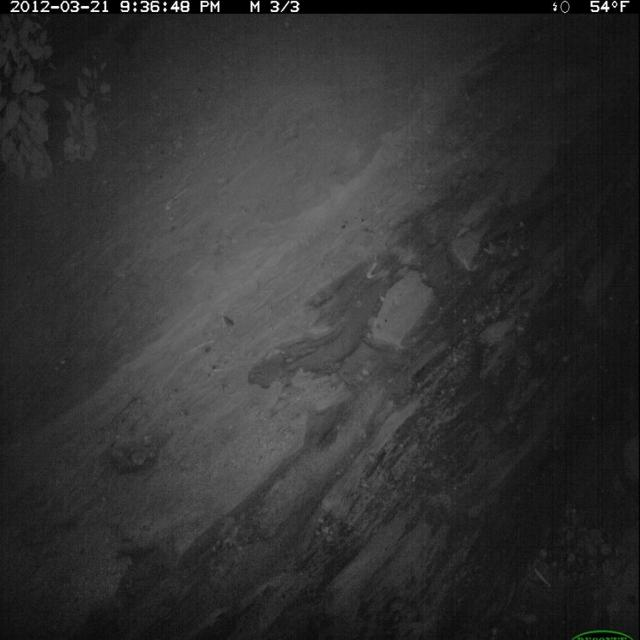opossum: (545, 54, 590, 115)
